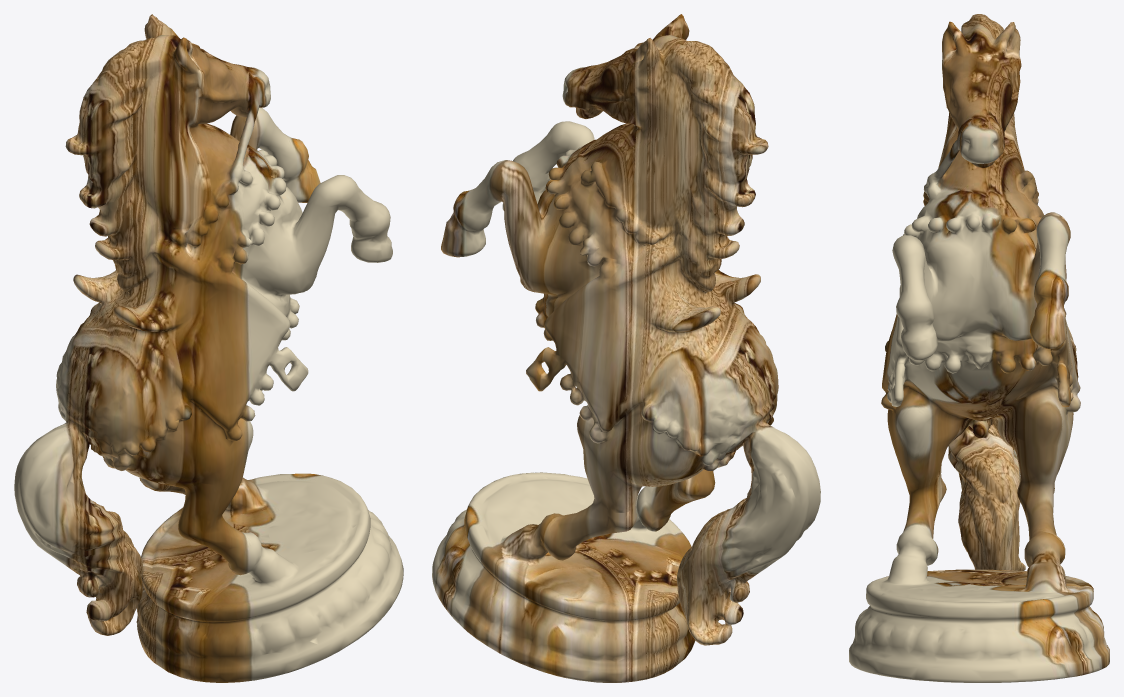
File: ashva.glb
3 views of the same model, side by side, from view 1: azimuth 30°, elevation 25°; view 2: azimuth 150°, elevation 25°; view 3: azimuth 270°, elevation 25° (orthographic).
Visible parts, largest first — view 1: geometry_0; view 2: geometry_0; view 3: geometry_0.
Part boxes in pixels (x1,y1,x2,y2): geometry_0: [14, 14, 403, 682]; geometry_0: [432, 14, 820, 682]; geometry_0: [849, 14, 1109, 682].
Size of the model in its own units: 1.23 by 2.05 by 0.7734.
Materials: 1 (1 with a texture image).
